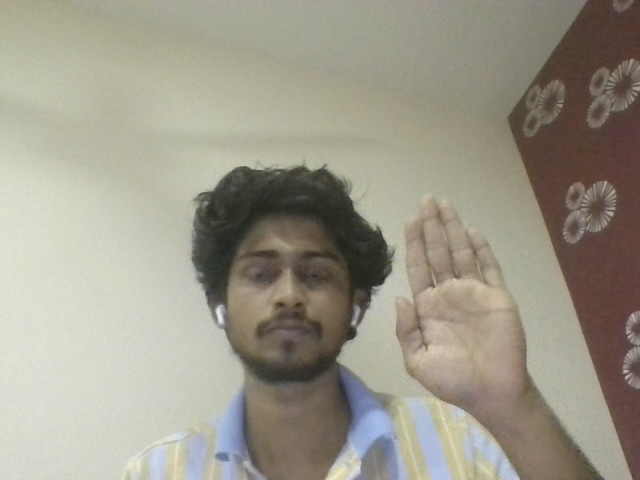hello: (389, 189, 548, 392)
